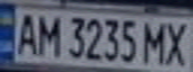2: (81, 15, 106, 61)
3: (63, 12, 87, 60), (103, 16, 124, 63)
5: (118, 17, 142, 64)
A: (12, 9, 42, 56)
M: (139, 18, 172, 65), (33, 10, 63, 56)
X: (160, 18, 193, 68)
